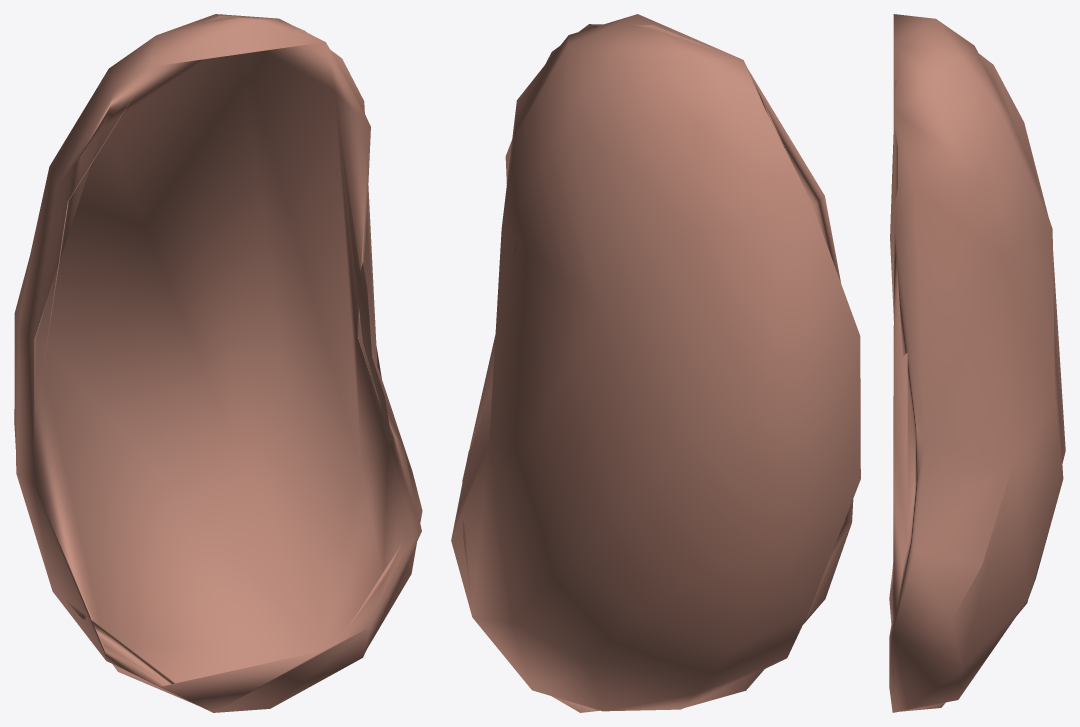
3 renders of one model, left to right at view 1: azimuth 30°, elevation 25°; view 2: azimuth 150°, elevation 25°; view 3: azimuth 270°, elevation 25°, orthographic. The views are drawn at different scales.
Visible parts, largest first — view 1: LOD 4_14591652872871216962_a1e5460f9667e624384844bb77a670e0; view 2: LOD 4_14591652872871216962_a1e5460f9667e624384844bb77a670e0; view 3: LOD 4_14591652872871216962_a1e5460f9667e624384844bb77a670e0.
Boxes of the visible parts, box(x1,y1,x2,y2) form: LOD 4_14591652872871216962_a1e5460f9667e624384844bb77a670e0: box(14, 14, 422, 712); LOD 4_14591652872871216962_a1e5460f9667e624384844bb77a670e0: box(451, 14, 860, 712); LOD 4_14591652872871216962_a1e5460f9667e624384844bb77a670e0: box(889, 14, 1065, 712).
Bounding box in the file's own units: 4.3 × 7.3 × 1.79.
